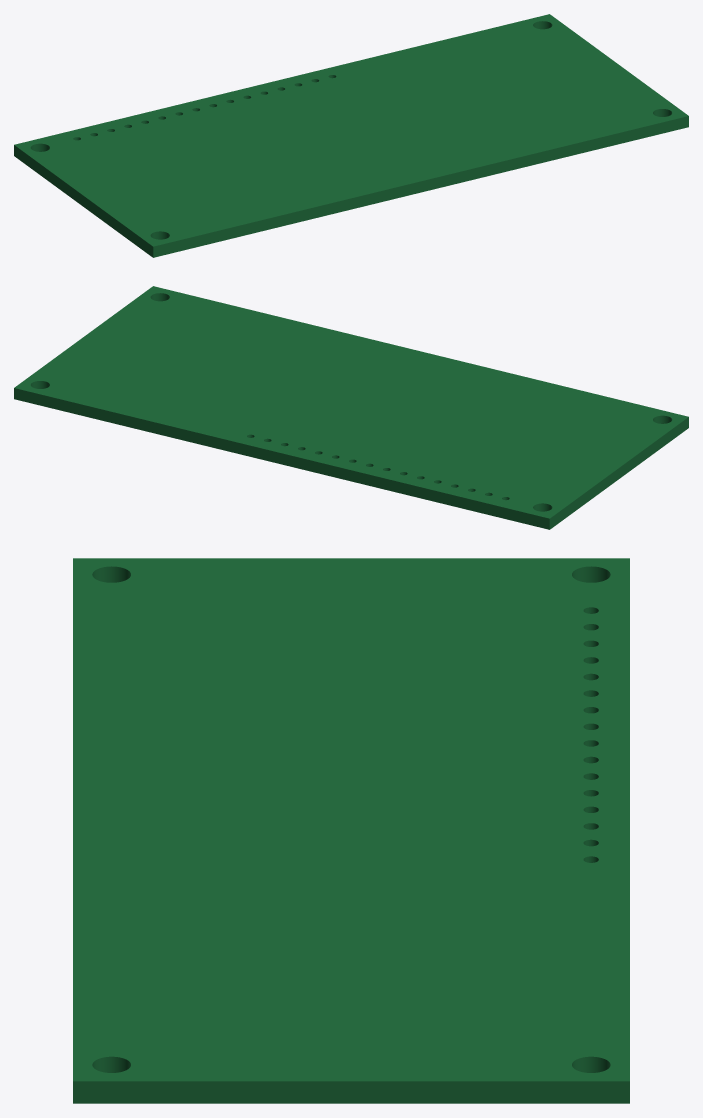
The model's file is lcd1602.glb.
3 views of the same model, one above another, from view 1: azimuth 30°, elevation 25°; view 2: azimuth 150°, elevation 25°; view 3: azimuth 270°, elevation 25° (orthographic). The views are drawn at different scales.
Size of the model in its own units: 0.08 by 0.0016 by 0.036.
